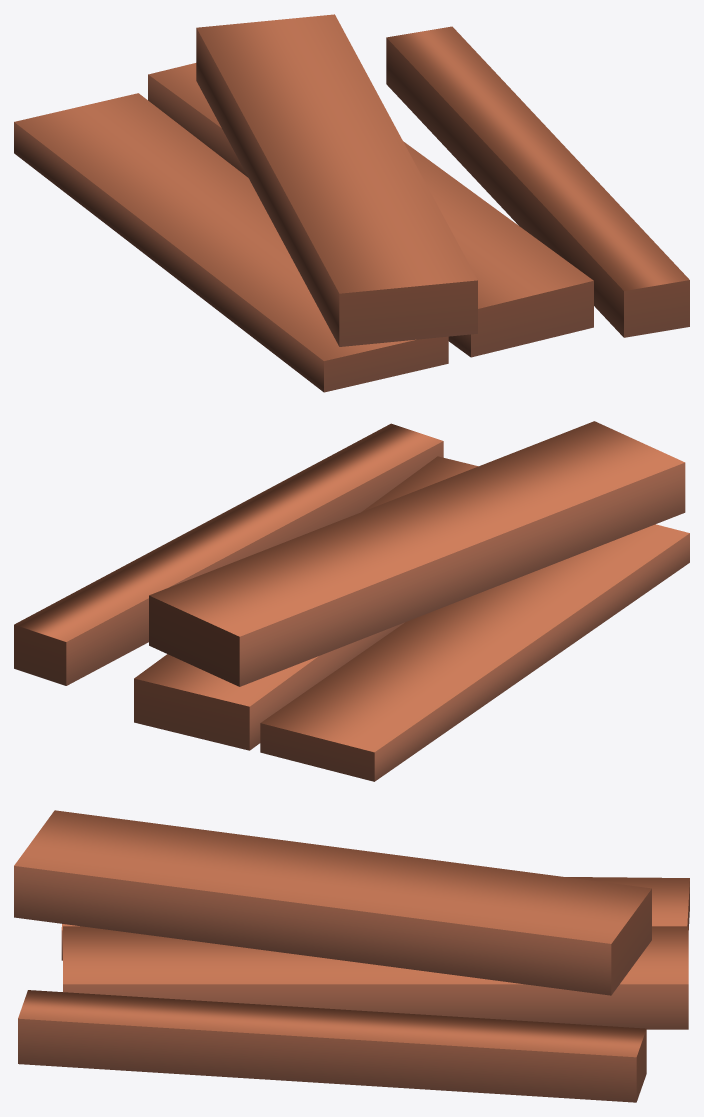
The model's file is platform-planks.glb.
The picture shows the model from 3 angles, top to bottom: view 1: azimuth 30°, elevation 25°; view 2: azimuth 150°, elevation 25°; view 3: azimuth 270°, elevation 25°; orthographic projection. The views are drawn at different scales.
Parts seen in each view (by area): view 1: platform-planks; view 2: platform-planks; view 3: platform-planks.
Part boxes in pixels (x1,y1,x2,y2): platform-planks: [14, 14, 689, 392]; platform-planks: [14, 421, 689, 781]; platform-planks: [14, 810, 689, 1102].
Size of the model in its own units: 1.89 by 0.428 by 2.7.
1 material, 1 textured.
